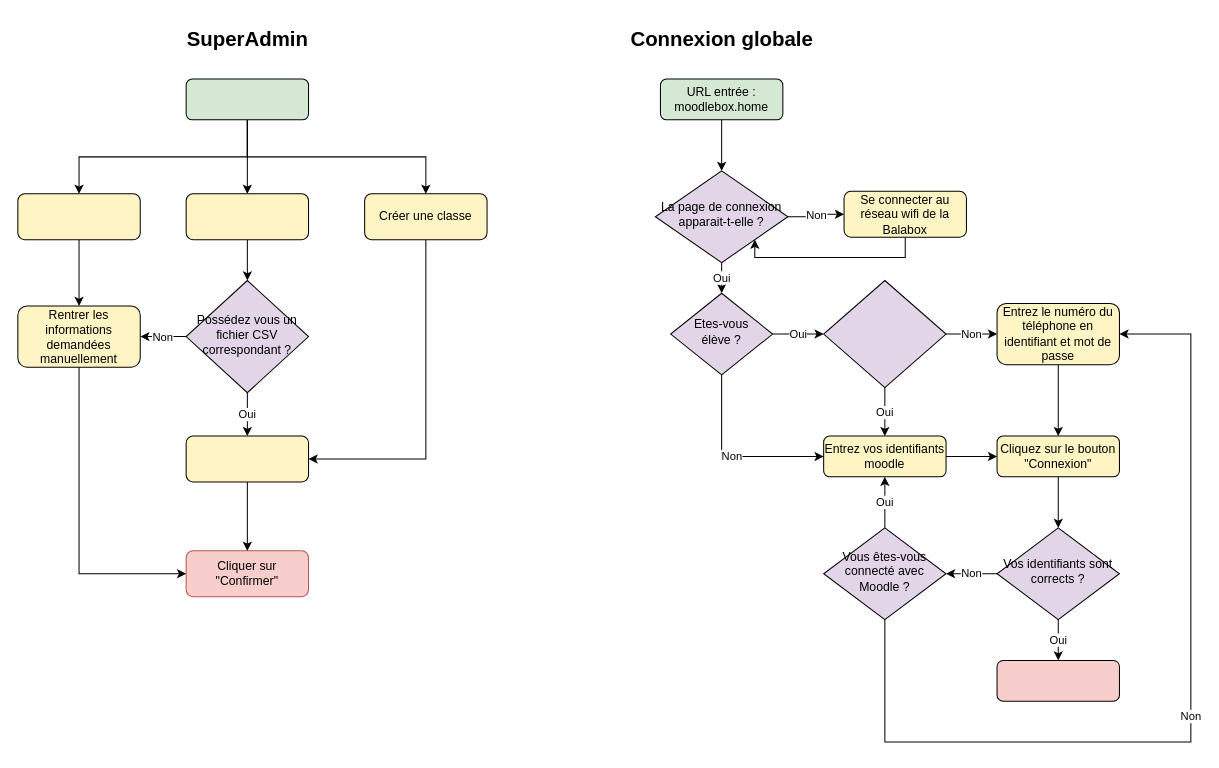
The diagram is 1219 pixels wide and 768 high, and some of its shapes have lost their labels. Here are the shapes that lost their labels. From the top down, the centre of each, then its label:
At pixel 247 99: "Etre connecté en tant que super admin".
At pixel 78 216: "Créer un cours".
At pixel 247 216: "Créer un utilisateur".
At pixel 884 333: "Voulez-vous vous connecter avec Moodle ?".
At pixel 247 458: "Importer le fichier CSV".
At pixel 1057 680: "Vous êtes sur le tableau de bord".
